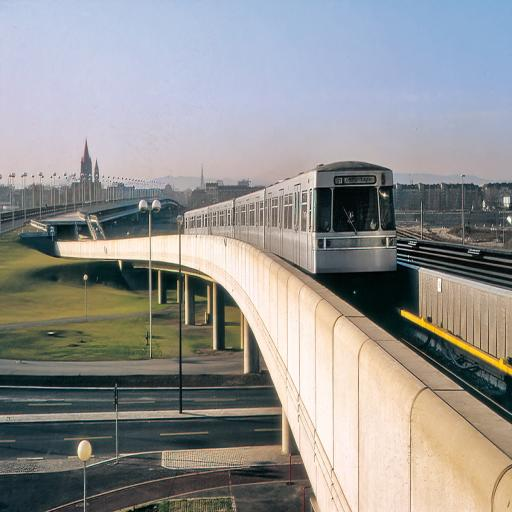Silberpfeil: (181, 155, 399, 297)
